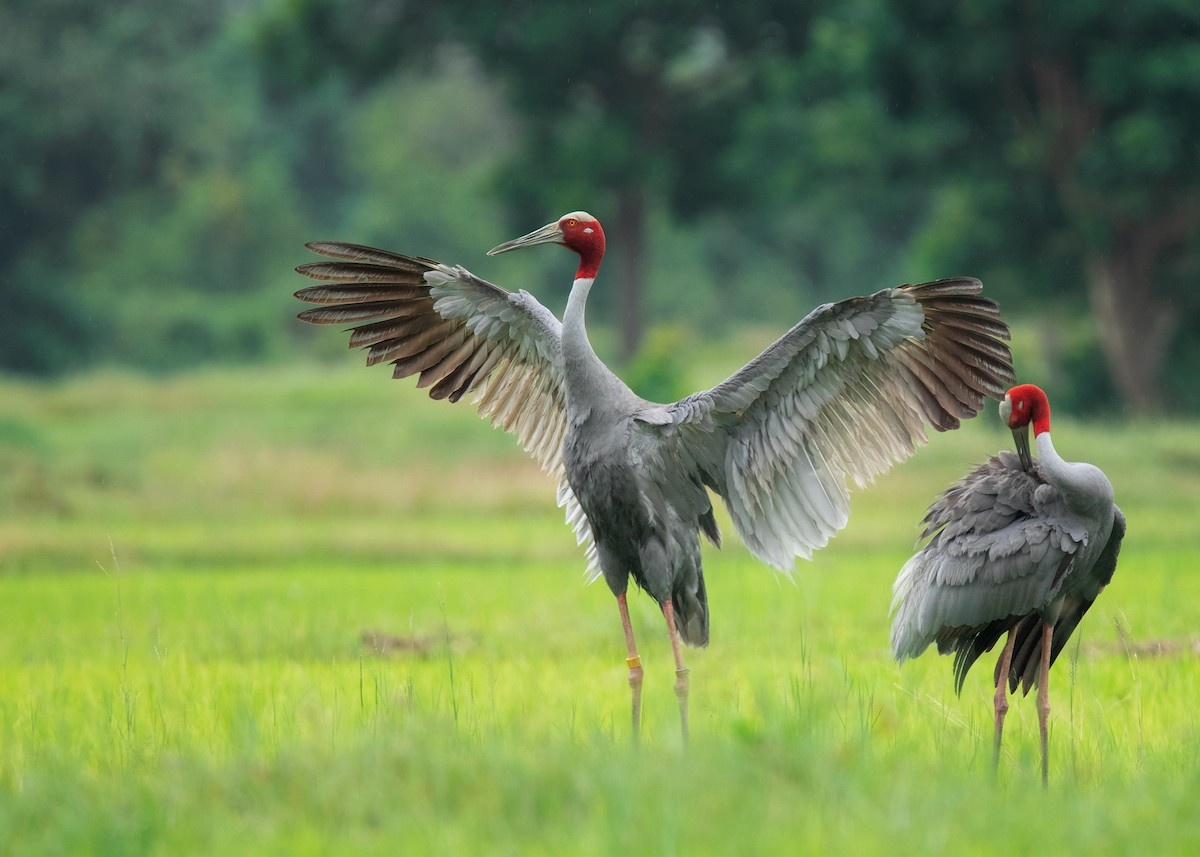crane: (316, 172, 943, 753), (927, 378, 1128, 776)
